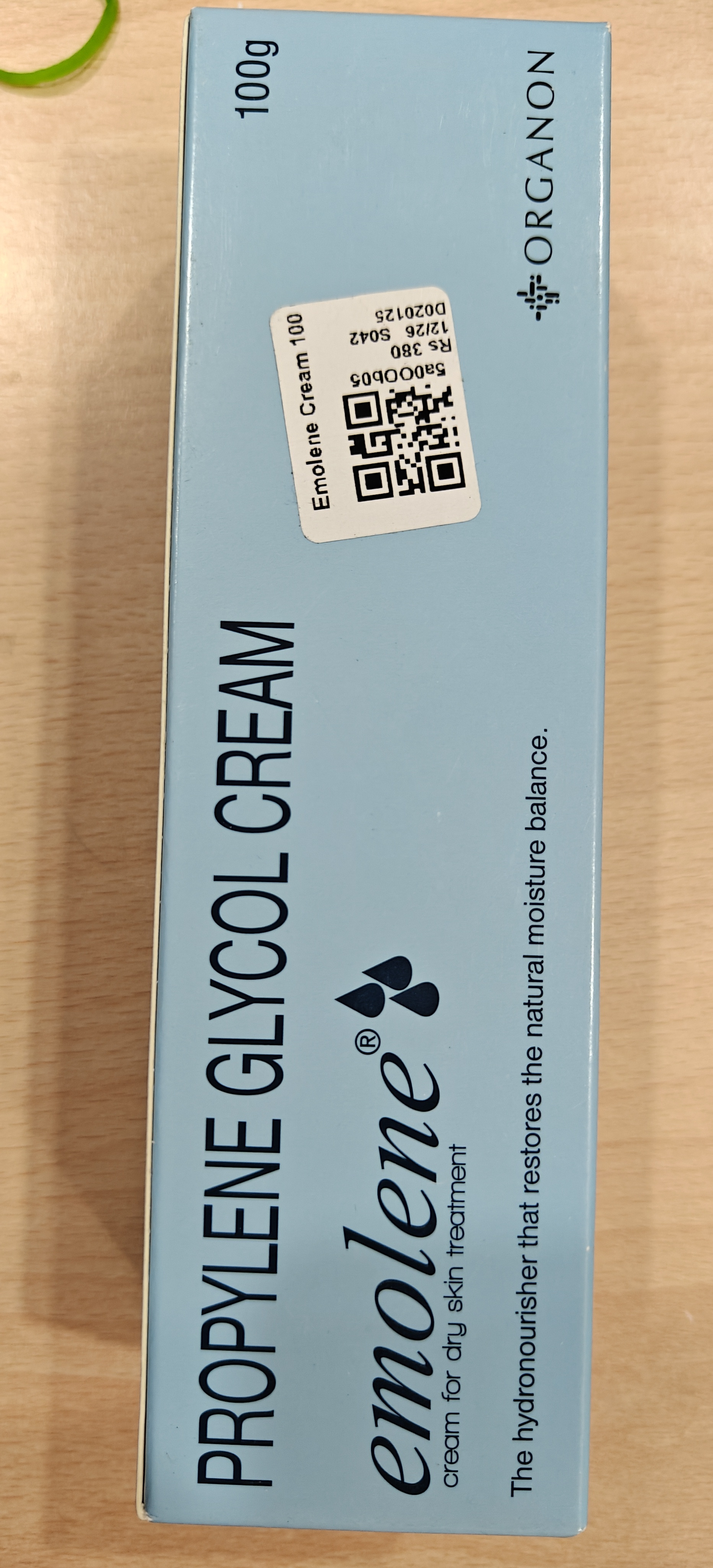qr_code: (342, 380, 466, 502)
